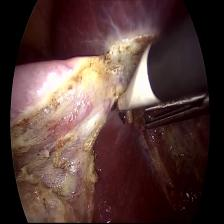Grasper: (114, 39, 161, 114), (138, 94, 211, 134)
